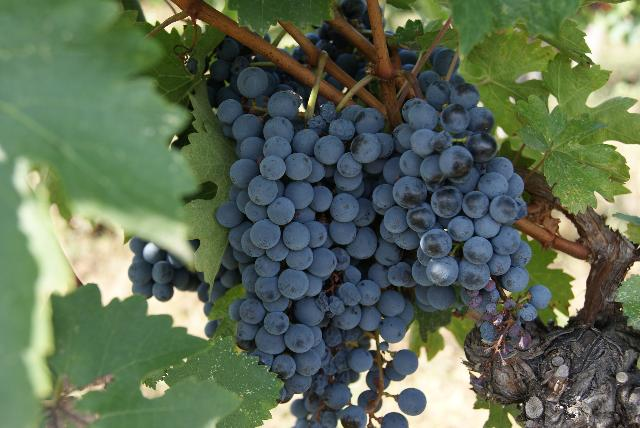grapes: (196, 36, 392, 428), (305, 106, 430, 428), (385, 81, 530, 310)
